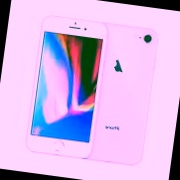iphone: (80, 21, 147, 159)
